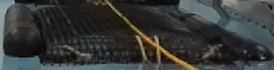bag: (3, 4, 274, 68)
